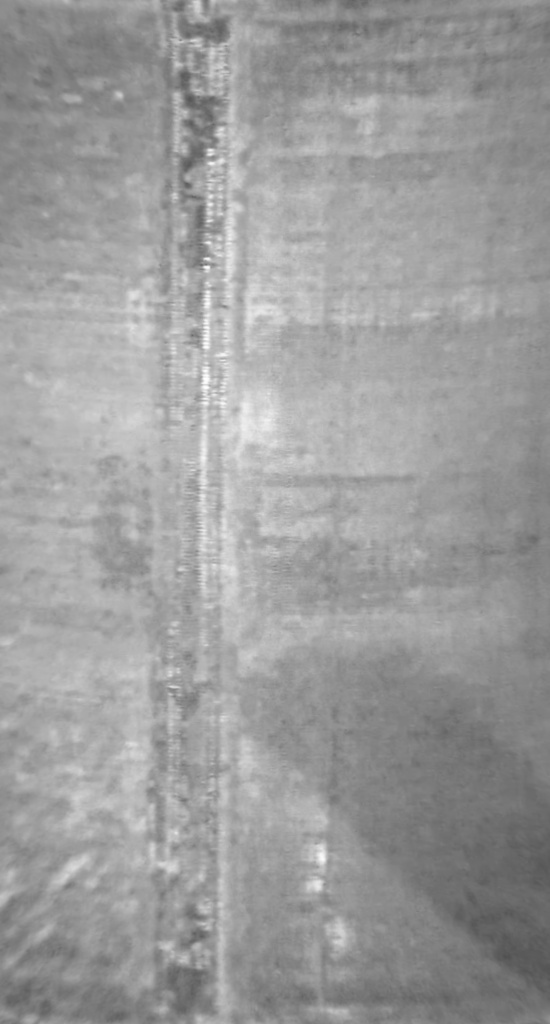splice: (153, 1, 250, 1022)
